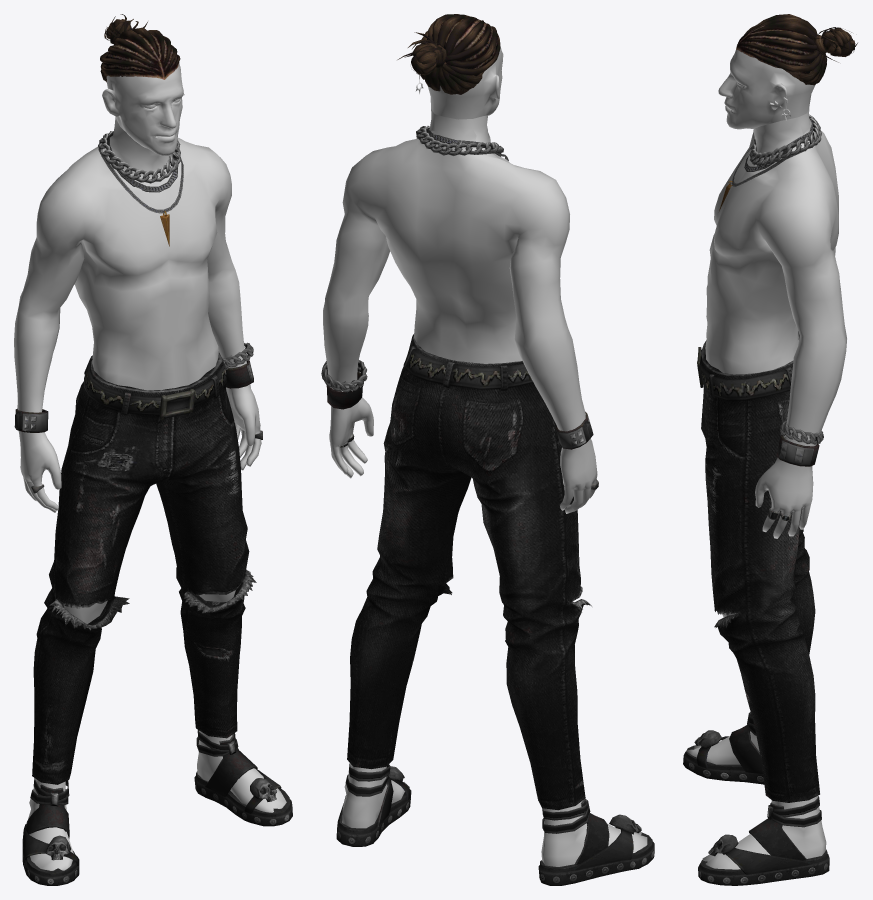
Rendered from Thiva's Deluxe Bundle.fbx.
3 views of the same model, side by side, from view 1: azimuth 30°, elevation 25°; view 2: azimuth 150°, elevation 25°; view 3: azimuth 270°, elevation 25° (orthographic). The views are drawn at different scales.
Parts seen in each view (by area): view 1: Mesh_0015.rip, Mesh_0017.rip, Mesh_0016.rip, Mesh_0018.rip, Mesh_0014.rip; view 2: Mesh_0017.rip, Mesh_0015.rip, Mesh_0016.rip, Mesh_0014.rip, Mesh_0018.rip; view 3: Mesh_0015.rip, Mesh_0017.rip, Mesh_0016.rip, Mesh_0014.rip, Mesh_0018.rip.
Part boxes in pixels (x1,y1,x2,y2): Mesh_0015.rip: [14, 63, 286, 870]; Mesh_0017.rip: [32, 351, 256, 784]; Mesh_0016.rip: [22, 730, 292, 885]; Mesh_0018.rip: [14, 131, 262, 493]; Mesh_0014.rip: [100, 14, 180, 82]; Mesh_0017.rip: [347, 334, 591, 810]; Mesh_0015.rip: [323, 46, 647, 866]; Mesh_0016.rip: [336, 763, 654, 885]; Mesh_0014.rip: [397, 14, 500, 94]; Mesh_0018.rip: [321, 126, 598, 490]; Mesh_0015.rip: [687, 44, 846, 869]; Mesh_0017.rip: [697, 331, 819, 802]; Mesh_0016.rip: [683, 712, 829, 885]; Mesh_0014.rip: [736, 14, 857, 85]; Mesh_0018.rip: [719, 114, 823, 521].
Size of the model in its own units: 30.96 by 87.4 by 17.21.
